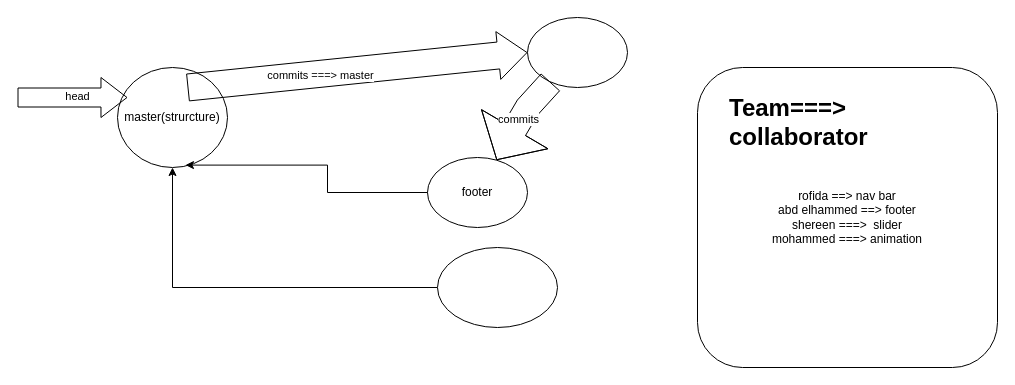
Some shapes in this 1015 by 385 pixel diagram are drawn without their labels. Here are the shapes that lost their labels. From the top down, the centre of each, then its label:
point 577,52: navbar
point 497,287: slider
